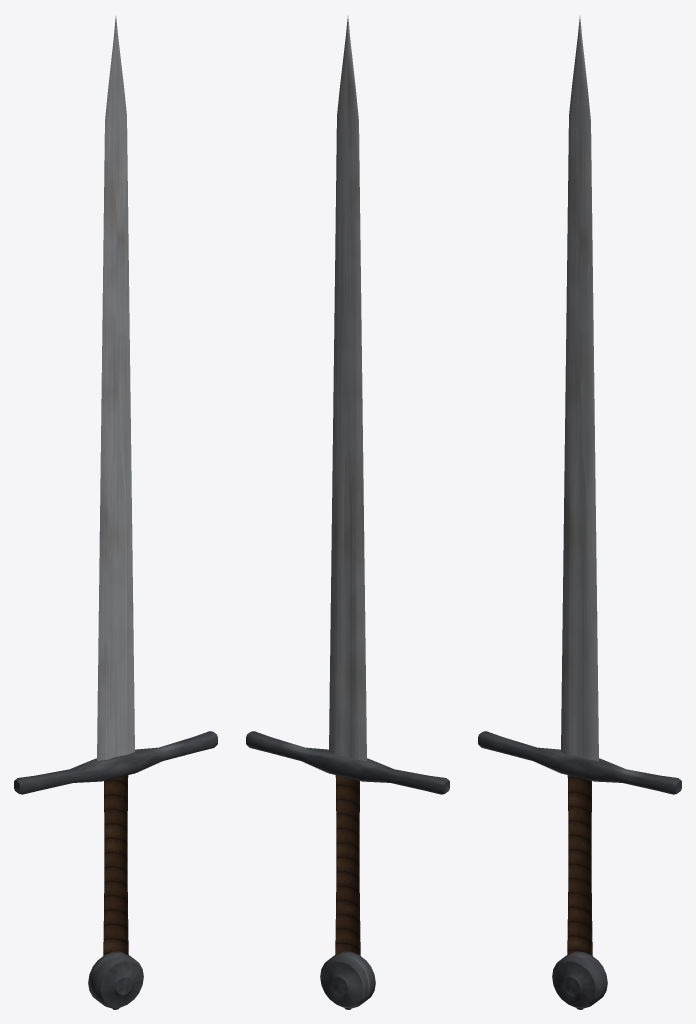
The model's file is Sword_TwoHanded.fbx.
3 renders of one model, left to right at view 1: azimuth 30°, elevation 25°; view 2: azimuth 150°, elevation 25°; view 3: azimuth 330°, elevation 25°, orthographic.
Parts seen in each view (by area): view 1: Blade, Grip, Guard, Pommel; view 2: Blade, Grip, Guard, Pommel; view 3: Blade, Grip, Guard, Pommel.
Boxes of the visible parts, x1,y1,x2,y2 form: Blade: (97,16,134,760); Grip: (103,775,128,956); Guard: (14,731,217,794); Pommel: (88,951,143,1009); Blade: (329,16,366,760); Grip: (335,775,360,956); Guard: (246,731,449,794); Pommel: (320,951,375,1009); Blade: (561,16,598,760); Grip: (567,775,592,956); Guard: (478,731,681,794); Pommel: (552,951,607,1009).
Size of the model in its own units: 0.81 by 3.89 by 0.128.
1 material, 1 textured.
